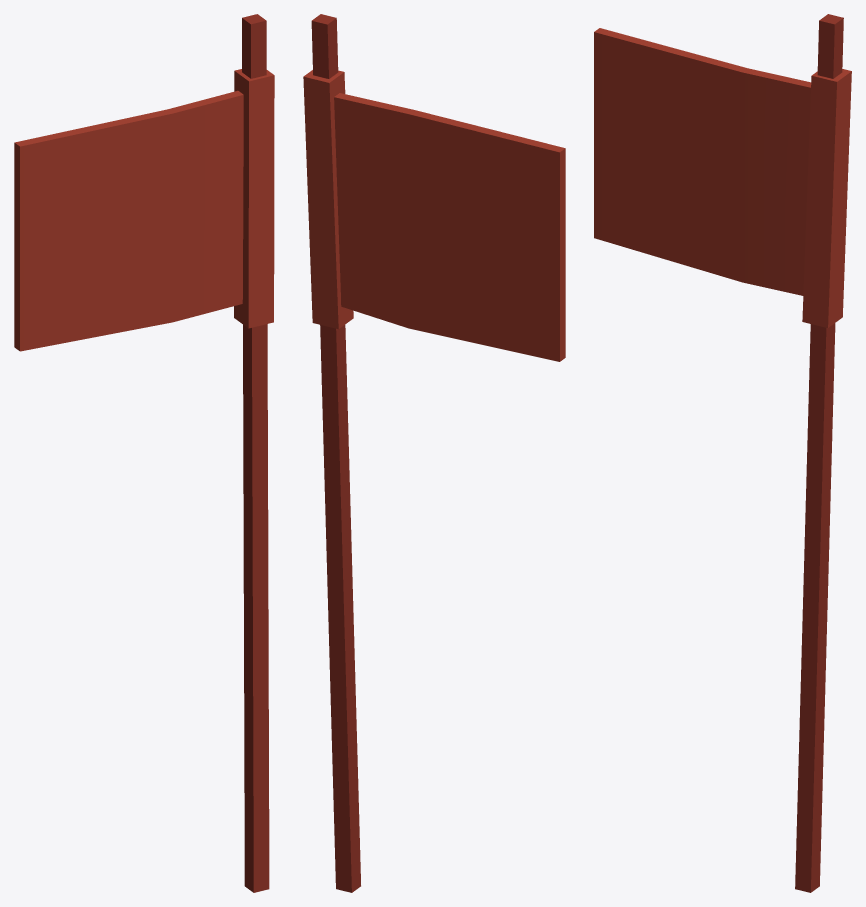
The model's file is FlagB.obj.
3 views of the same model, side by side, from view 1: azimuth 30°, elevation 25°; view 2: azimuth 150°, elevation 25°; view 3: azimuth 330°, elevation 25° (orthographic). The views are drawn at different scales.
Size of the model in its own units: 0.9095 by 3 by 0.1603.
Materials: 1 (1 with a texture image).
